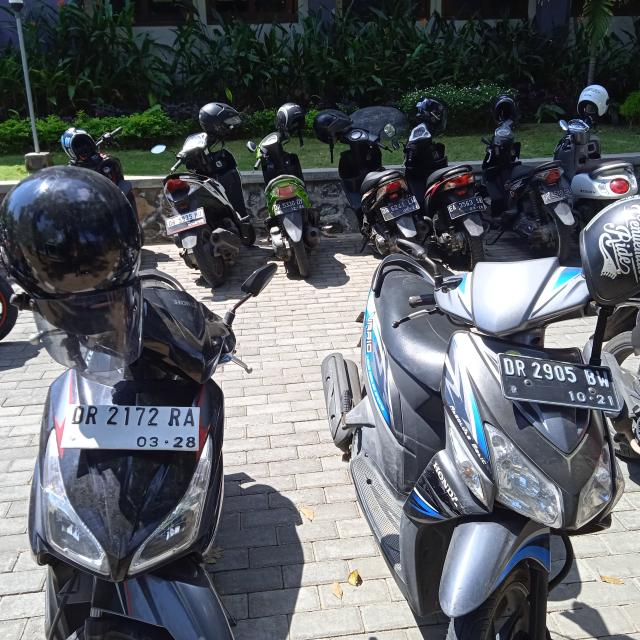plate: (60, 402, 204, 456), (498, 350, 619, 413), (165, 206, 207, 236), (379, 194, 421, 222), (446, 196, 487, 219), (274, 197, 306, 215)
